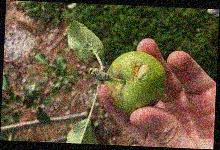rotten apple: (102, 48, 167, 113)
